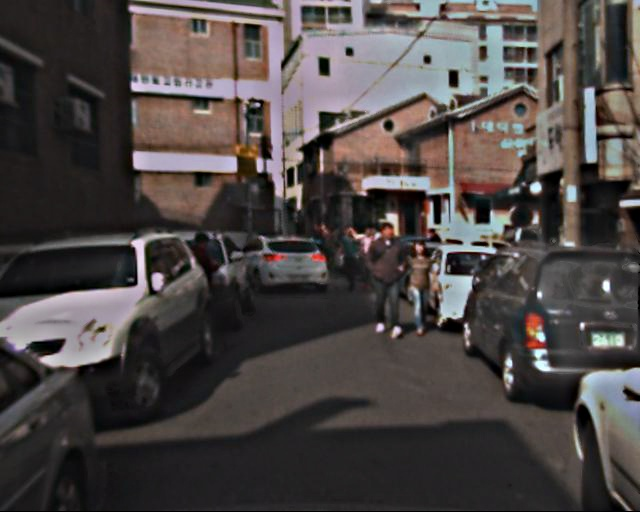person: (365, 222, 412, 337), (182, 231, 224, 334), (402, 243, 439, 334), (338, 226, 366, 295), (358, 225, 383, 287), (313, 221, 341, 261)
